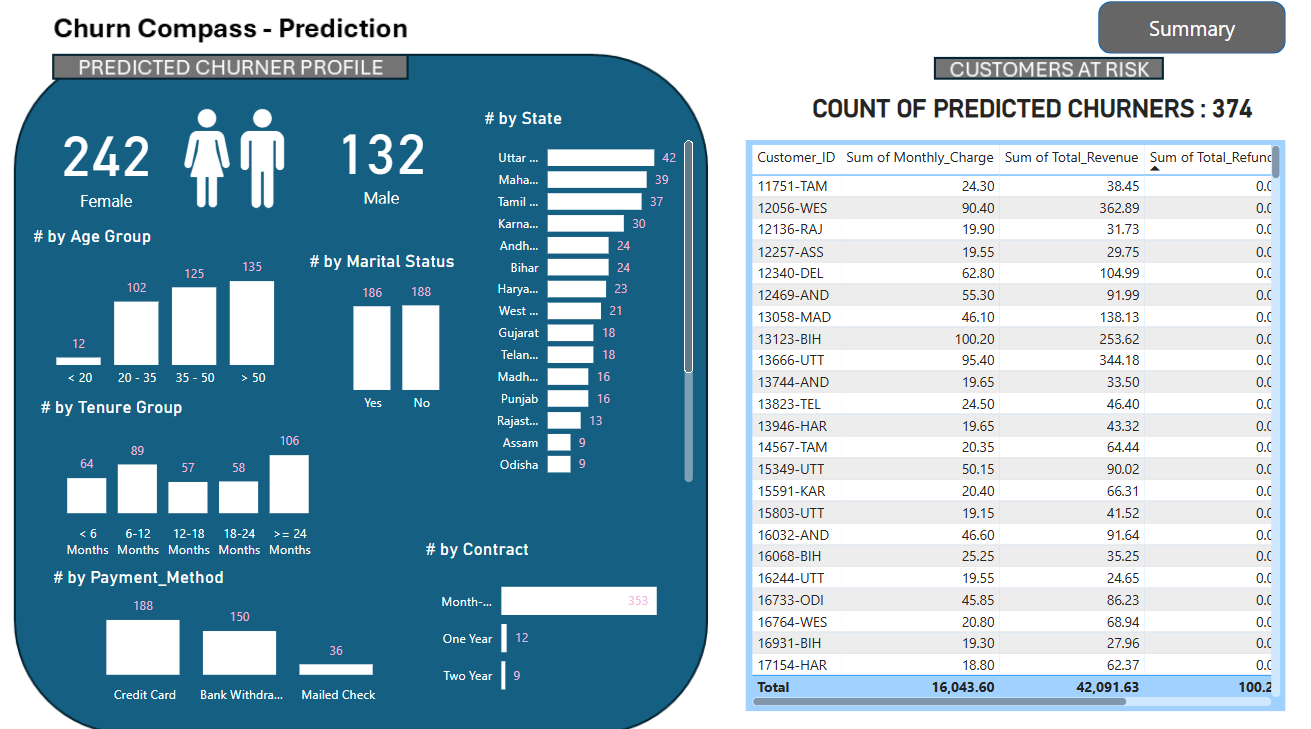

Layout of this report page (visuals, bound fields, positions):
{"tool":"powerbi","page":{"name":"Churn Prediction","canvas":[1280,720],"ordinal":2},"visuals":[{"type":"tableEx","fields":{"Values":["Predictions.Customer_ID","Sum(Predictions.Monthly_Charge)","Sum(Predictions.Total_Revenue)","Sum(Predictions.Total_Refunds)","Sum(Predictions.Number_of_Referrals)"]},"box":[732.3,144.8,521.2,551.3],"z":0},{"type":"card","fields":{"Values":["tbl_Measures.Title Predicted Churners"]},"box":[781.8,96.5,454.8,33.8],"z":1000},{"type":"card","fields":{"Values":["tbl_Measures.Count Predicted Churner"]},"box":[47.1,113.4,136.3,102.5],"z":2000},{"type":"card","fields":{"Values":["tbl_Measures.Count Predicted Churner"]},"box":[295.6,113.4,170.1,97.7],"z":3000},{"type":"clusteredColumnChart","fields":{"Category":["mapping_AgeGrp.Age Group"],"Y":["CountNonNull(Predictions.Customer_ID)"]},"box":[39.8,226.8,266.6,165.3],"z":4000},{"type":"clusteredColumnChart","fields":{"Category":["Predictions.Married"],"Y":["CountNonNull(Predictions.Customer_ID)"]},"box":[306.4,250.9,179.8,165.3],"z":5000},{"type":"clusteredColumnChart","fields":{"Y":["CountNonNull(Predictions.Customer_ID)"],"Category":["mapping_TenureGrp.Tenure Group"]},"box":[47.1,392.1,289.5,164.1],"z":6000},{"type":"clusteredColumnChart","fields":{"Y":["CountNonNull(Predictions.Customer_ID)"],"Category":["Predictions.Payment_Method"]},"box":[59.1,556.2,359.5,139.9],"z":7000},{"type":"clusteredBarChart","fields":{"Category":["Predictions.Contract"],"Y":["CountNonNull(Predictions.Customer_ID)"]},"box":[418.6,529.6,259.4,166.5],"z":8000},{"type":"clusteredBarChart","fields":{"Category":["prod_Churn.State"],"Y":["CountNonNull(Predictions.Customer_ID)"]},"box":[475.3,113.4,211.1,366.8],"z":9000},{"type":"image","box":[170.1,96.5,136.3,130.3],"z":10000},{"type":"shape","box":[1072.5,10.9,181,50.7],"z":11000}]}

Visuals, with their boxes in screenshot pixels (x1, y1, x2, y2), scaled from the page's 1280x720 canvas onto the 1311x729 screenshot:
tableEx - Predictions.Customer_ID x Sum(Predictions.Monthly_Charge): x1=750, y1=147, x2=1284, y2=705
card - tbl_Measures.Title Predicted Churners: x1=801, y1=98, x2=1267, y2=132
card - tbl_Measures.Count Predicted Churner: x1=48, y1=115, x2=188, y2=219
card - tbl_Measures.Count Predicted Churner: x1=303, y1=115, x2=477, y2=214
clusteredColumnChart - mapping_AgeGrp.Age Group x CountNonNull(Predictions.Customer_ID): x1=41, y1=230, x2=314, y2=397
clusteredColumnChart - Predictions.Married x CountNonNull(Predictions.Customer_ID): x1=314, y1=254, x2=498, y2=421
clusteredColumnChart - CountNonNull(Predictions.Customer_ID) x mapping_TenureGrp.Tenure Group: x1=48, y1=397, x2=345, y2=563
clusteredColumnChart - CountNonNull(Predictions.Customer_ID) x Predictions.Payment_Method: x1=61, y1=563, x2=429, y2=705
clusteredBarChart - Predictions.Contract x CountNonNull(Predictions.Customer_ID): x1=429, y1=536, x2=694, y2=705
clusteredBarChart - prod_Churn.State x CountNonNull(Predictions.Customer_ID): x1=487, y1=115, x2=703, y2=486
image: x1=174, y1=98, x2=314, y2=230
shape: x1=1098, y1=11, x2=1284, y2=62
